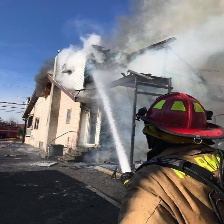smoke: (52, 1, 224, 80)
